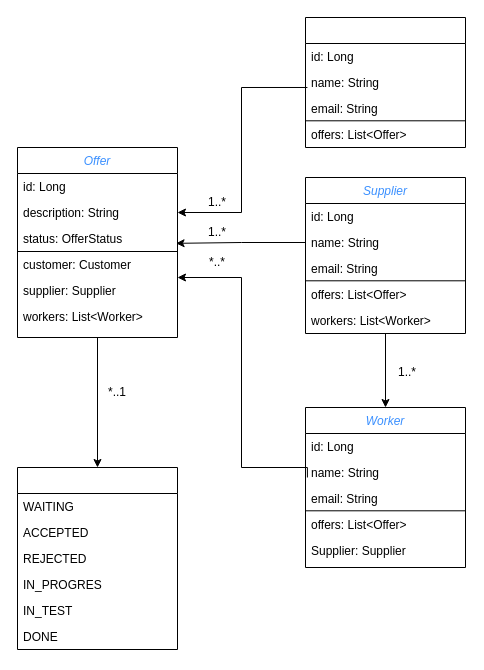
Some shapes in this 484 by 670 pixel diagram are drawn without their labels. The shapes that lost their labels are listed below. From the top down, each one's box as (x1, y1, x2, y2) in pixels, then its label:
(304, 16, 466, 148): Customer
(16, 466, 178, 650): OfferStatus
